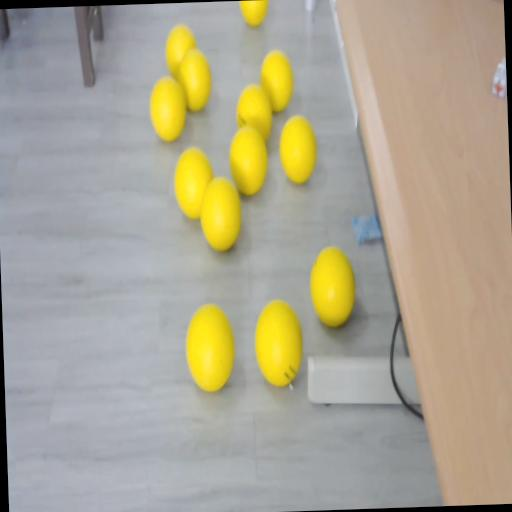FUEL: (183, 300, 236, 392), (252, 296, 304, 387), (306, 242, 356, 328), (198, 174, 243, 252), (227, 124, 270, 196), (278, 114, 318, 184), (148, 74, 188, 142), (176, 46, 212, 112), (259, 48, 295, 112), (238, 0, 268, 26)
